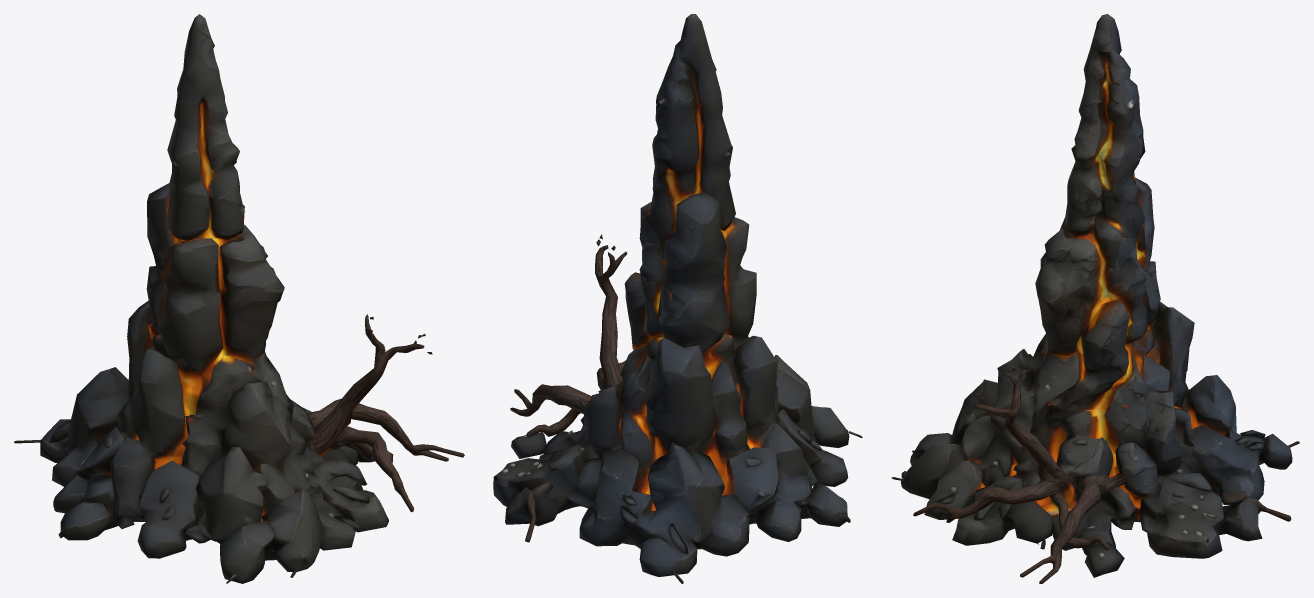
3 renders of one model, left to right at view 1: azimuth 30°, elevation 25°; view 2: azimuth 150°, elevation 25°; view 3: azimuth 270°, elevation 25°, orthographic.
Visible parts, largest first — view 1: tripo_node_4b95ae5e-2e27-485b-878b-b0b0fef4bac3; view 2: tripo_node_4b95ae5e-2e27-485b-878b-b0b0fef4bac3; view 3: tripo_node_4b95ae5e-2e27-485b-878b-b0b0fef4bac3.
Boxes of the visible parts, left/top/right/bottom form: tripo_node_4b95ae5e-2e27-485b-878b-b0b0fef4bac3: left=14, top=14, right=464, bottom=583; tripo_node_4b95ae5e-2e27-485b-878b-b0b0fef4bac3: left=493, top=14, right=862, bottom=583; tripo_node_4b95ae5e-2e27-485b-878b-b0b0fef4bac3: left=891, top=14, right=1299, bottom=583.
Size of the model in its own units: 0.8023 by 1 by 0.7769.
Materials: 1 (1 with a texture image).
